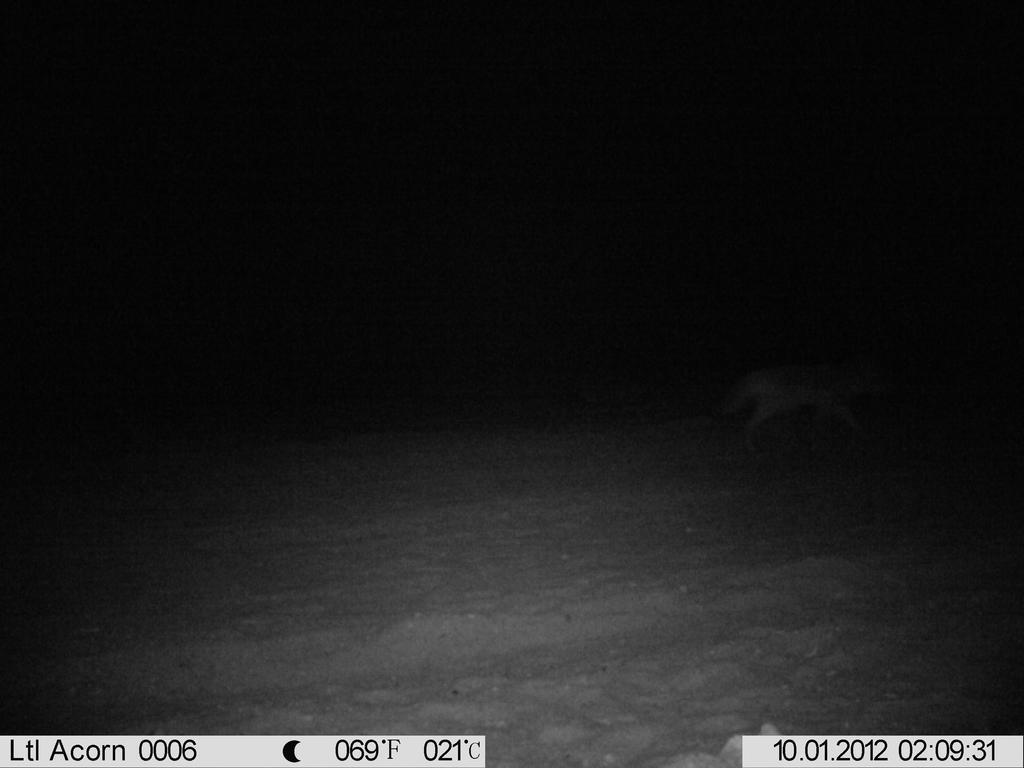coyote: (719, 328, 904, 460)
